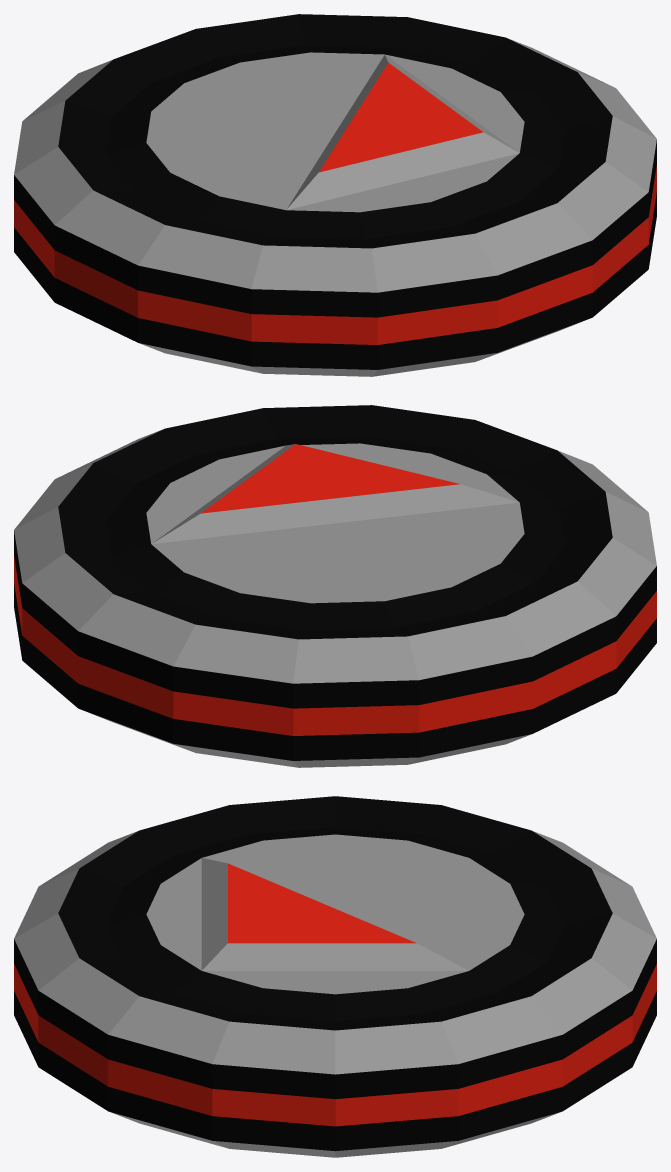
Rendered from RoombaModel 1.fbx.
3 renders of one model, top to bottom at view 1: azimuth 30°, elevation 25°; view 2: azimuth 150°, elevation 25°; view 3: azimuth 270°, elevation 25°, orthographic.
Visible parts, largest first — view 1: Romba; view 2: Romba; view 3: Romba.
Part boxes in pixels (x1=…): Romba: x1=14, y1=14, x2=656, y2=376; Romba: x1=14, y1=405, x2=656, y2=767; Romba: x1=14, y1=796, x2=656, y2=1157.
Size of the model in its own units: 100 by 24.52 by 100.
